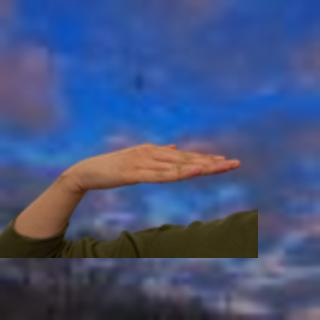WAIT: (67, 136, 243, 196)
